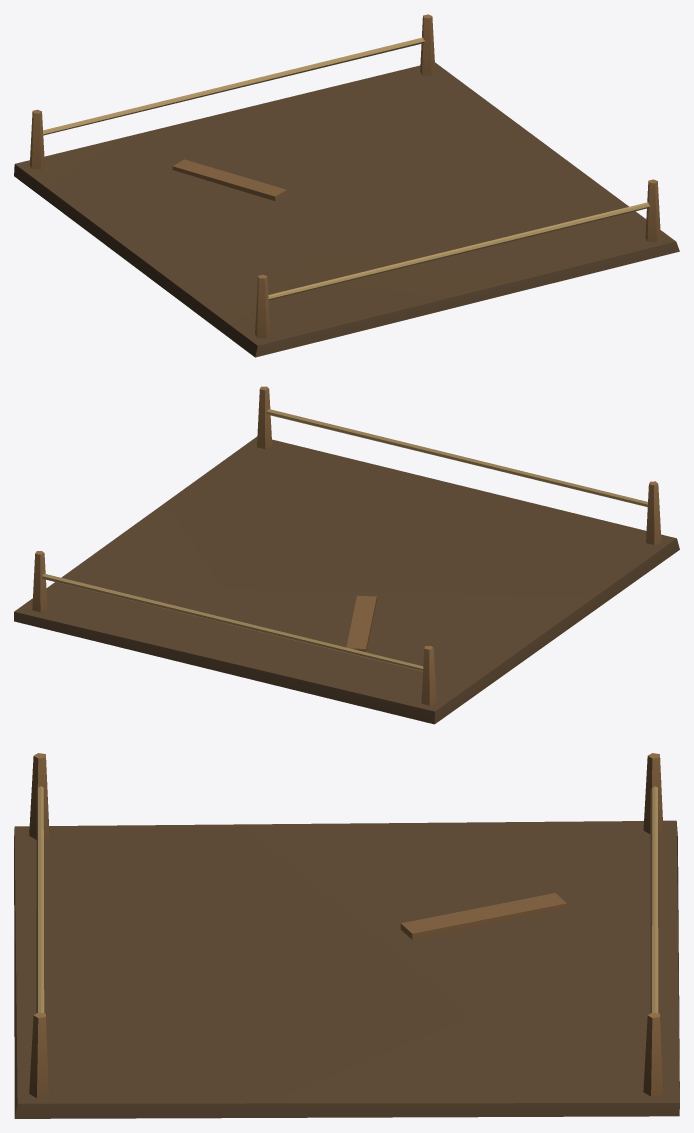
The model's file is farm_s0.glb.
3 views of the same model, one above another, from view 1: azimuth 30°, elevation 25°; view 2: azimuth 150°, elevation 25°; view 3: azimuth 270°, elevation 25° (orthographic). The views are drawn at different scales.
Visible parts, largest first — view 1: farm_s0; view 2: farm_s0; view 3: farm_s0.
Boxes of the visible parts, x1,y1,x2,y2 form: farm_s0: (14, 14, 679, 357); farm_s0: (14, 386, 679, 724); farm_s0: (14, 753, 679, 1118).
Bounding box in the file's own units: 1.96 × 0.3069 × 1.95.
